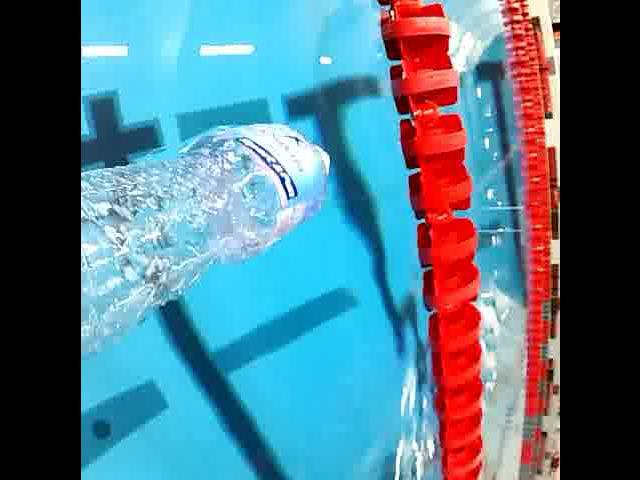Bottle: (80, 117, 338, 365)
